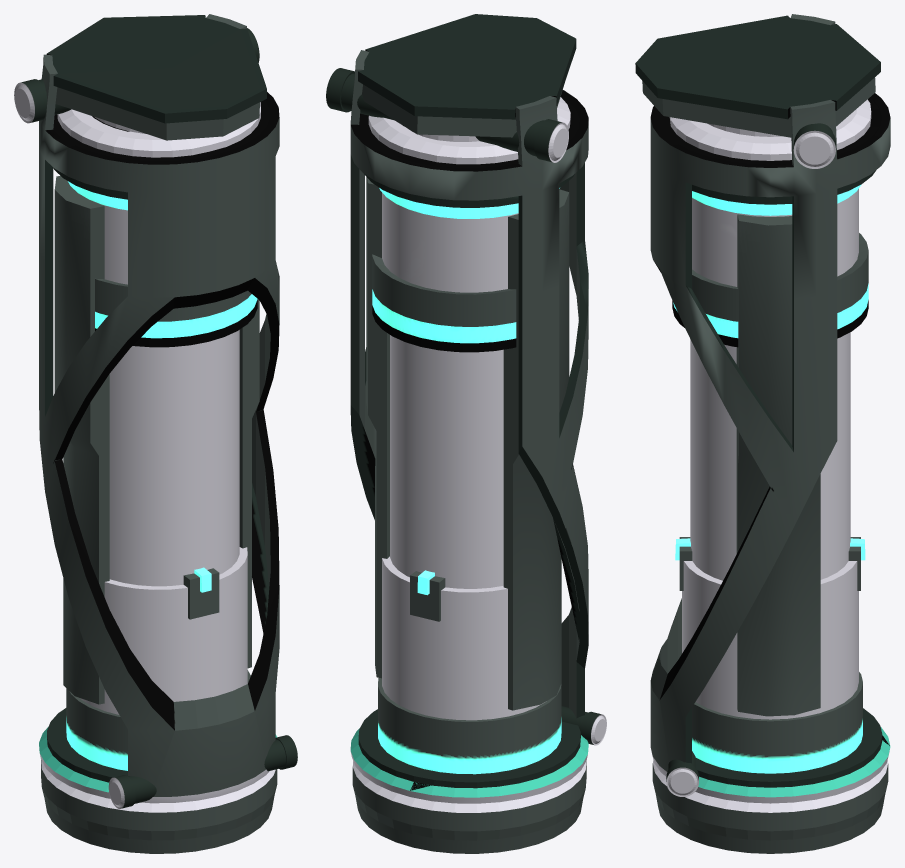
Rendered from Powersupply-WithCase.fbx.
3 renders of one model, left to right at view 1: azimuth 30°, elevation 25°; view 2: azimuth 150°, elevation 25°; view 3: azimuth 270°, elevation 25°, orthographic.
Parts seen in each view (by area): view 1: Supply With case; view 2: Supply With case; view 3: Supply With case.
Part boxes in pixels (bbox=[...]): Supply With case: bbox=[14, 14, 297, 853]; Supply With case: bbox=[326, 14, 606, 853]; Supply With case: bbox=[635, 14, 890, 853].
Bounding box in the file's own units: 68.07 × 214 × 66.34.
